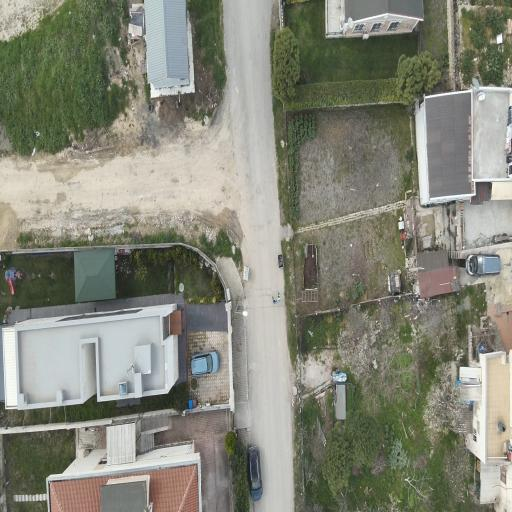car: (248, 447, 262, 501), (191, 351, 219, 376), (467, 255, 500, 275)
person: (273, 297, 277, 304), (277, 293, 280, 301)
